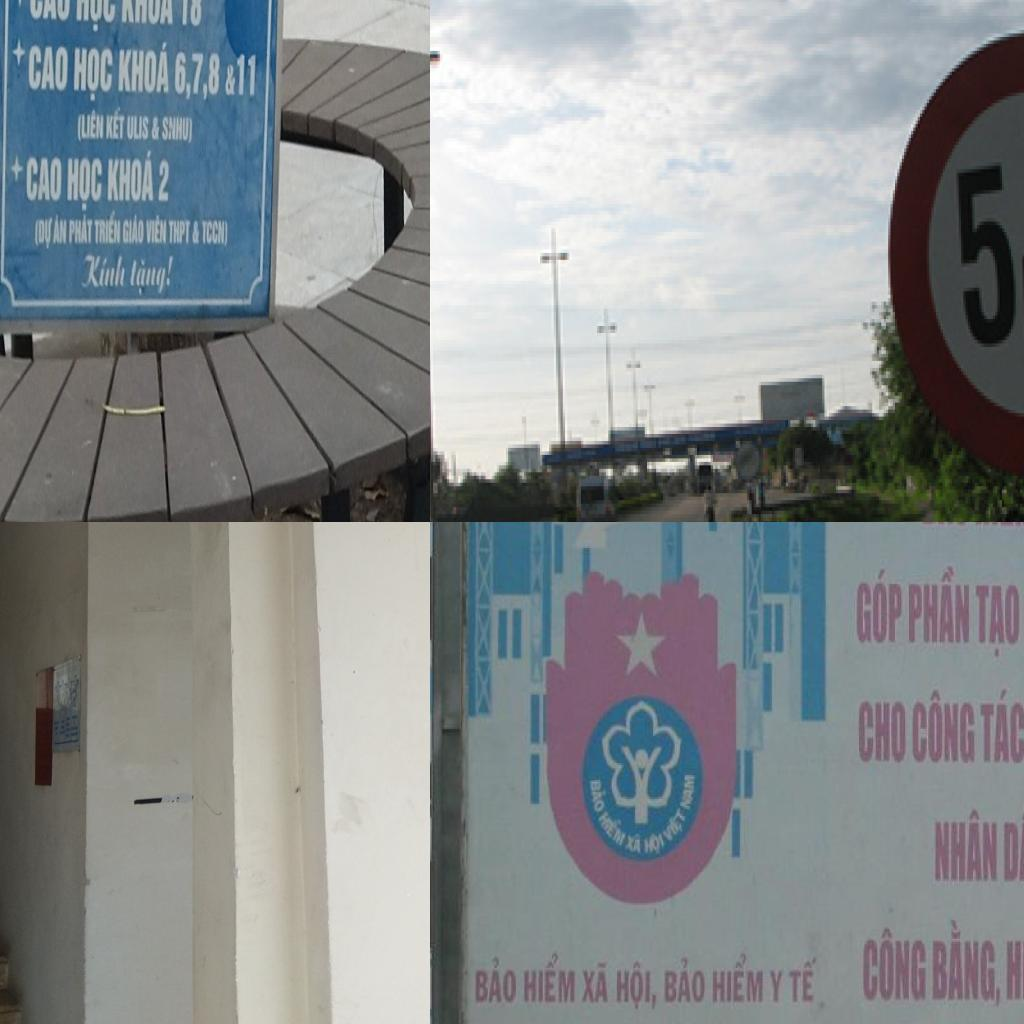text: (952, 162, 1020, 354), (928, 915, 1004, 1007), (928, 800, 1002, 888), (904, 565, 973, 651), (856, 922, 930, 1002), (909, 686, 978, 765), (853, 690, 909, 768), (852, 567, 906, 647), (974, 682, 1024, 768), (974, 577, 1020, 657), (708, 949, 767, 1004), (118, 38, 170, 97), (520, 952, 577, 1004), (106, 148, 155, 203), (72, 44, 115, 105), (999, 923, 1024, 1019), (472, 958, 518, 1009), (27, 43, 70, 96), (616, 962, 658, 1016), (65, 156, 103, 214), (24, 152, 64, 205), (660, 958, 706, 1004), (78, 252, 128, 289), (1001, 807, 1024, 885), (788, 951, 820, 1007), (75, 0, 117, 37), (120, 0, 175, 28), (663, 802, 693, 852), (595, 811, 629, 855), (580, 959, 612, 1004), (235, 51, 259, 102), (640, 824, 670, 860), (93, 208, 121, 246), (190, 49, 210, 102), (161, 114, 194, 146), (28, 0, 72, 23), (586, 778, 611, 818), (76, 108, 104, 143), (174, 48, 192, 102), (122, 211, 145, 248), (68, 214, 93, 248), (200, 218, 228, 248), (178, 0, 205, 30), (767, 965, 786, 1007), (207, 50, 222, 102), (680, 774, 696, 820), (105, 106, 125, 142), (146, 213, 168, 245), (33, 216, 53, 251), (156, 156, 170, 205), (126, 114, 150, 142), (168, 218, 191, 246), (222, 63, 236, 101), (625, 830, 644, 857), (52, 213, 66, 248), (150, 114, 160, 143), (191, 219, 201, 247)
